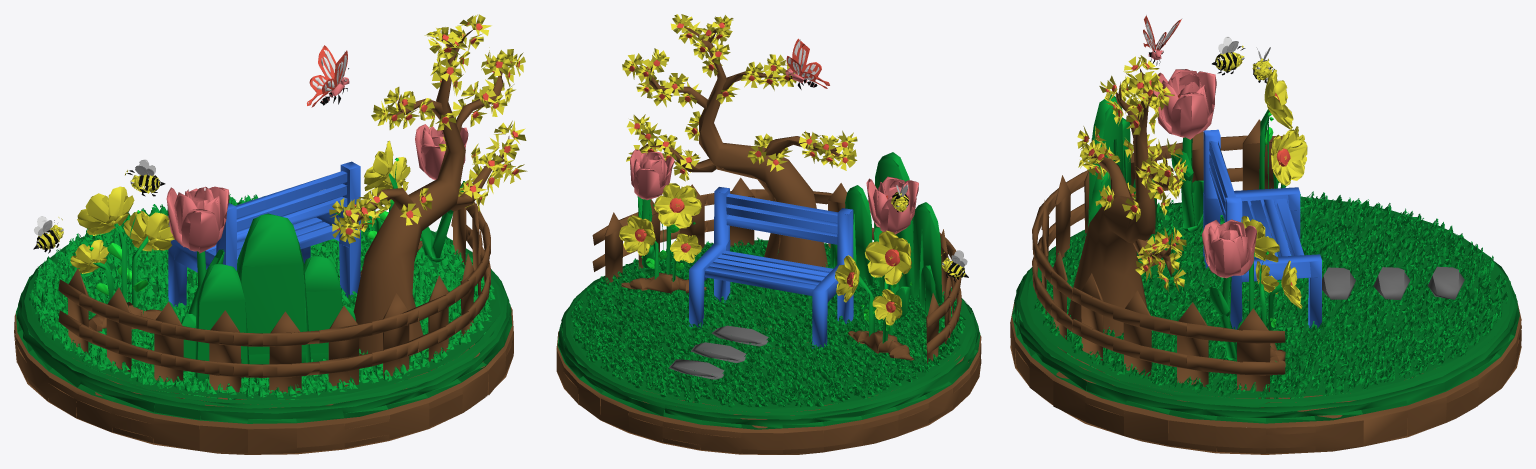
Rendered from garden.glb.
The picture shows the model from 3 angles, left to right: view 1: azimuth 30°, elevation 25°; view 2: azimuth 150°, elevation 25°; view 3: azimuth 270°, elevation 25°; orthographic projection. The views are drawn at different scales.
Parts seen in each view (by area): view 1: Cube.010; view 2: Cube.010; view 3: Cube.010.
Boxes of the visible parts, x1=… form: Cube.010: x1=14, y1=14, x2=527, y2=454; Cube.010: x1=556, y1=14, x2=981, y2=454; Cube.010: x1=1010, y1=15, x2=1521, y2=454.
Size of the model in its own units: 1 by 0.7281 by 0.9642.
